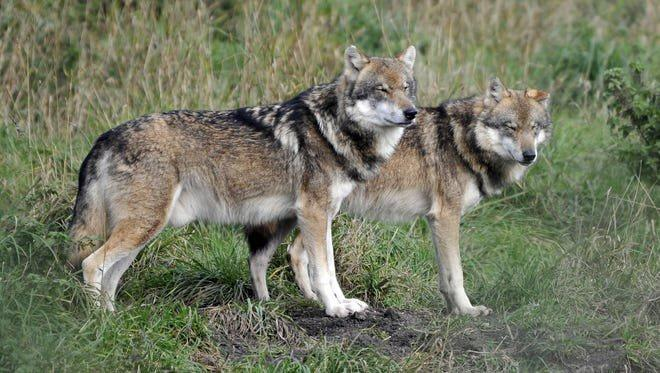Wolf: (70, 45, 415, 316), (339, 78, 550, 315)
